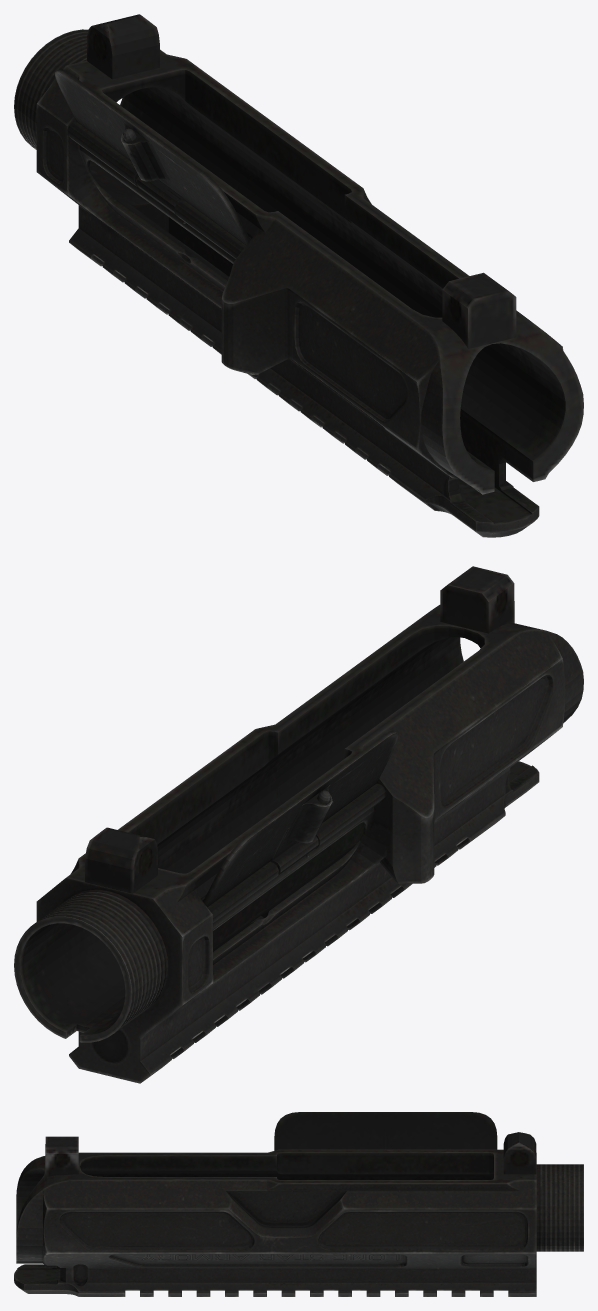
The picture shows the model from 3 angles, top to bottom: view 1: azimuth 30°, elevation 25°; view 2: azimuth 150°, elevation 25°; view 3: azimuth 270°, elevation 25°; orthographic projection. The views are drawn at different scales.
Visible parts, largest first — view 1: TW_5d4405aaa4b9361e6a4e6bd3_PZ_Import; view 2: TW_5d4405aaa4b9361e6a4e6bd3_PZ_Import; view 3: TW_5d4405aaa4b9361e6a4e6bd3_PZ_Import.
Part boxes in pixels (x1=…): TW_5d4405aaa4b9361e6a4e6bd3_PZ_Import: x1=14, y1=14, x2=583, y2=537; TW_5d4405aaa4b9361e6a4e6bd3_PZ_Import: x1=14, y1=566, x2=583, y2=1083; TW_5d4405aaa4b9361e6a4e6bd3_PZ_Import: x1=14, y1=1112, x2=583, y2=1296.
Size of the model in its own units: 0.0268 by 0.1164 by 0.0338.
Materials: 1 (1 with a texture image).
